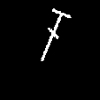double_crochet: (41, 9, 70, 60)
